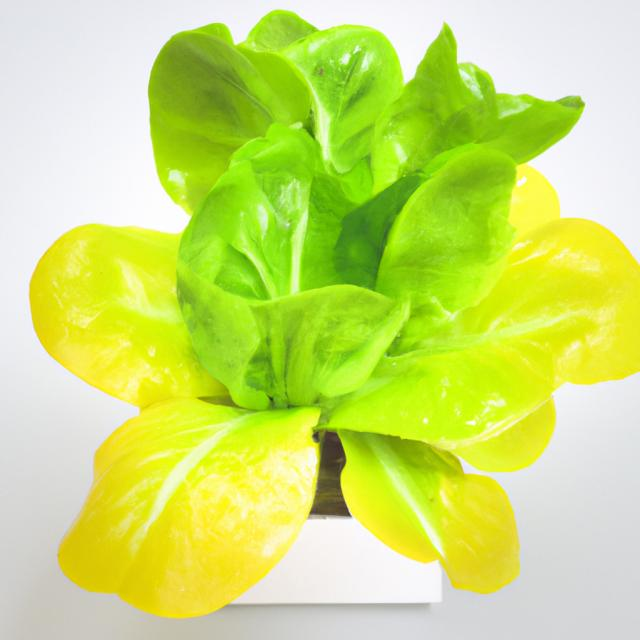-N: (22, 0, 640, 630)
